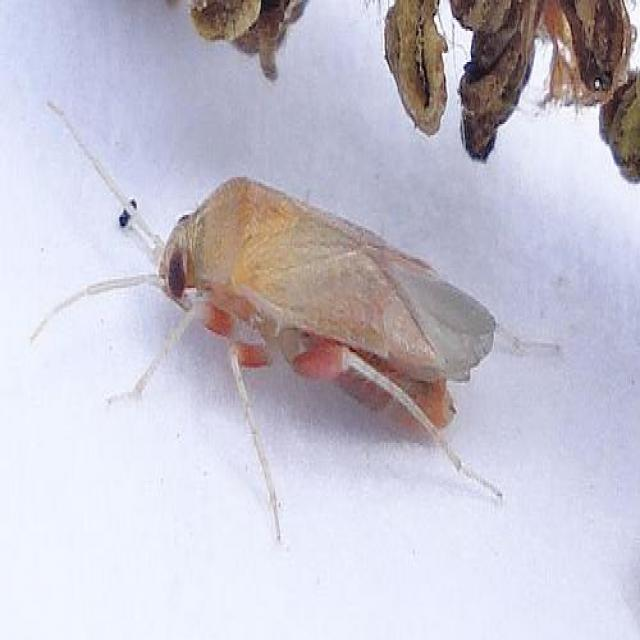Miridae-Adult-: (10, 86, 554, 532)
